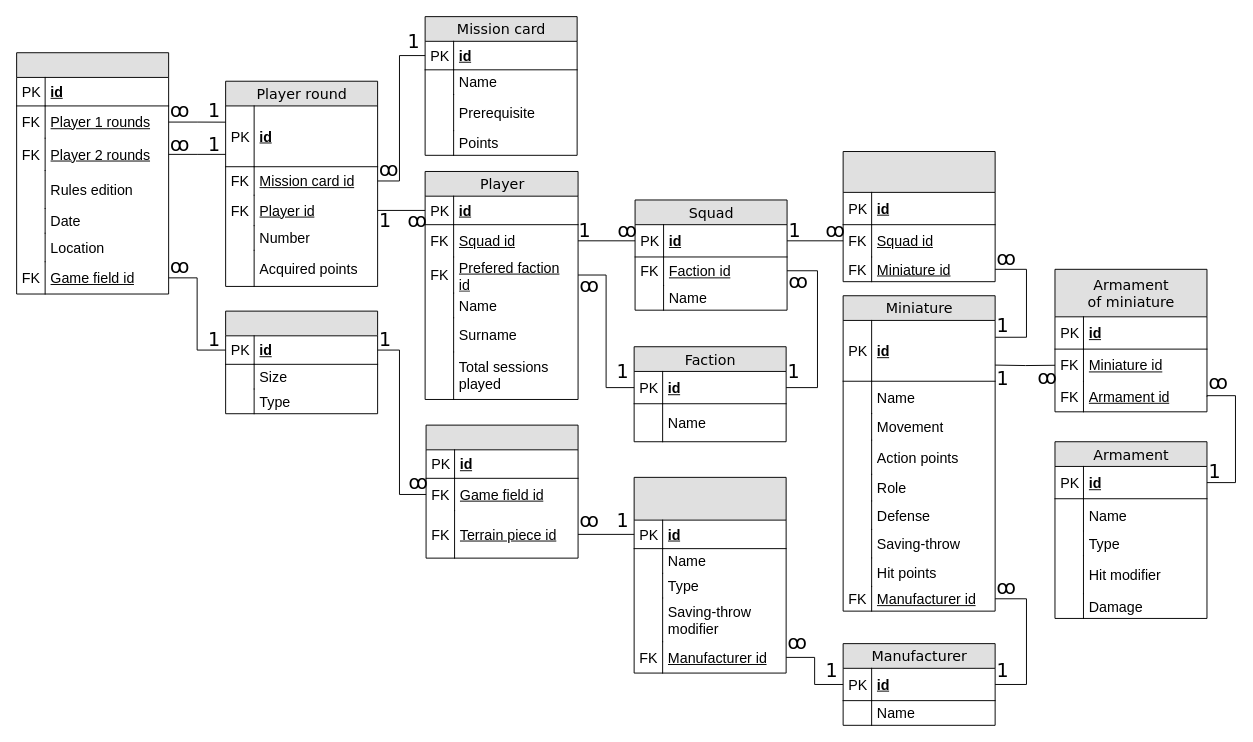
Some shapes in this 1253 by 742 pixel diagram are drawn without their labels. The box of each missing label's shape, as (x1, y1, x2, y2) in pixels:
Game field: (225, 310, 378, 414)
Game session: (16, 52, 169, 294)
Miniature in squad: (842, 151, 995, 282)
Terrain on field: (425, 424, 578, 558)
Terrain piece: (633, 476, 786, 673)
